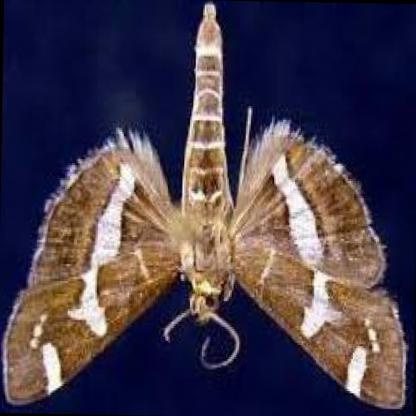Leaf Webber: (2, 0, 400, 413)
